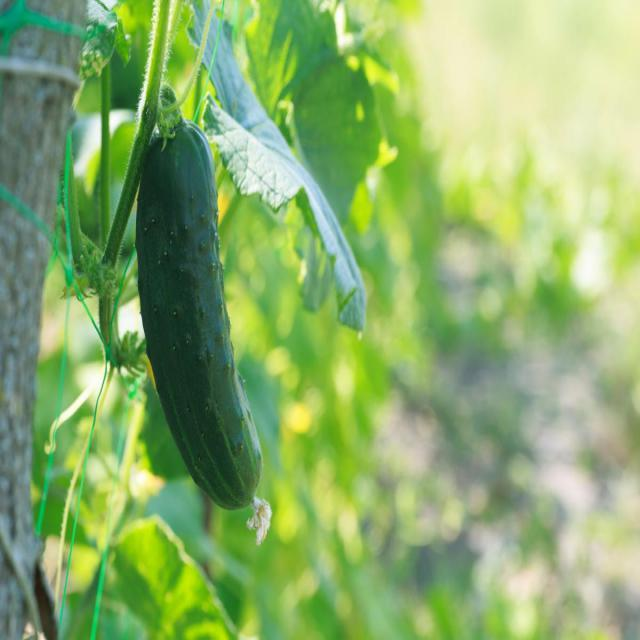cucumber: (132, 120, 266, 514)
